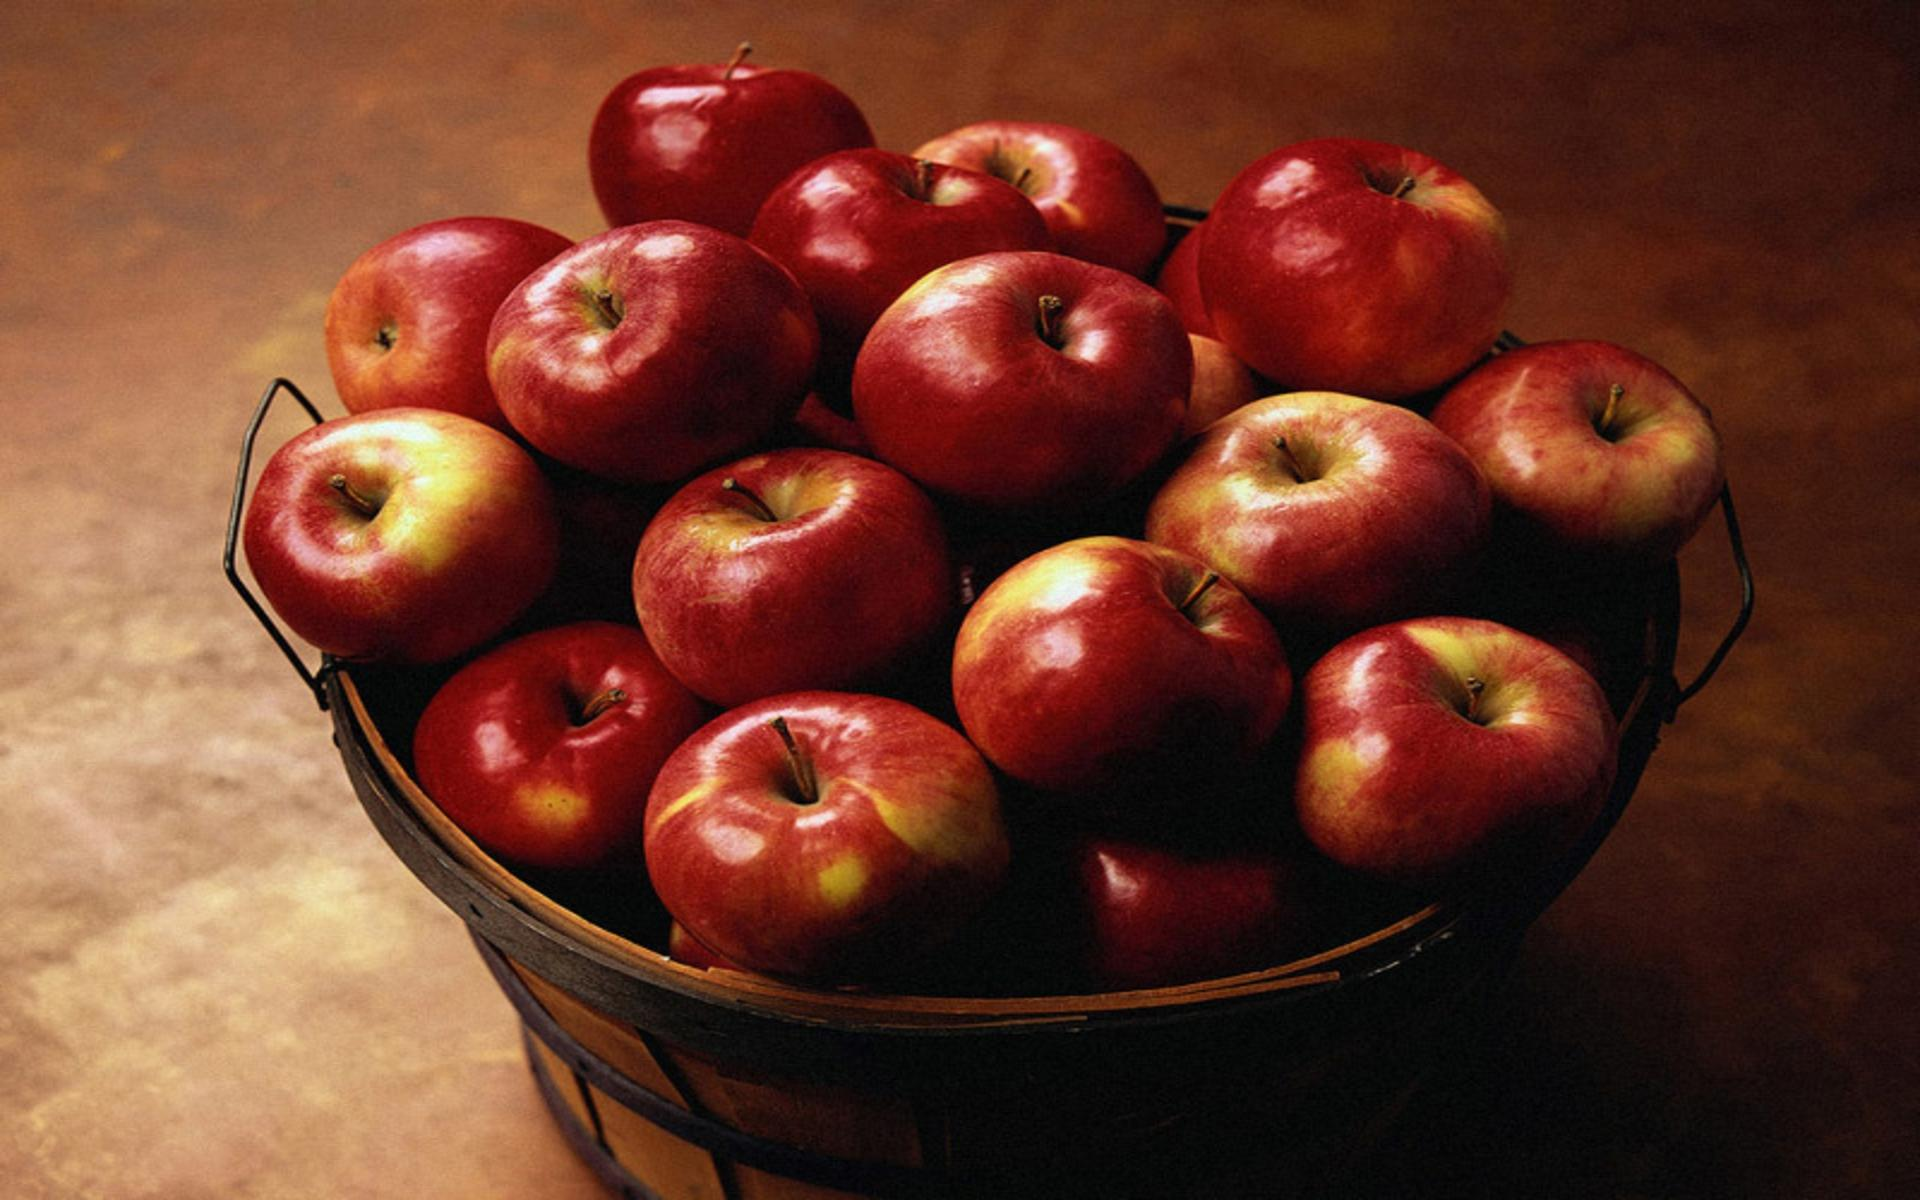apple: (628, 675, 1012, 988), (842, 241, 1214, 513), (950, 516, 1290, 810), (218, 390, 556, 666), (1160, 371, 1519, 625), (1290, 610, 1599, 894), (489, 206, 825, 459), (1218, 106, 1505, 376), (639, 424, 941, 676)
